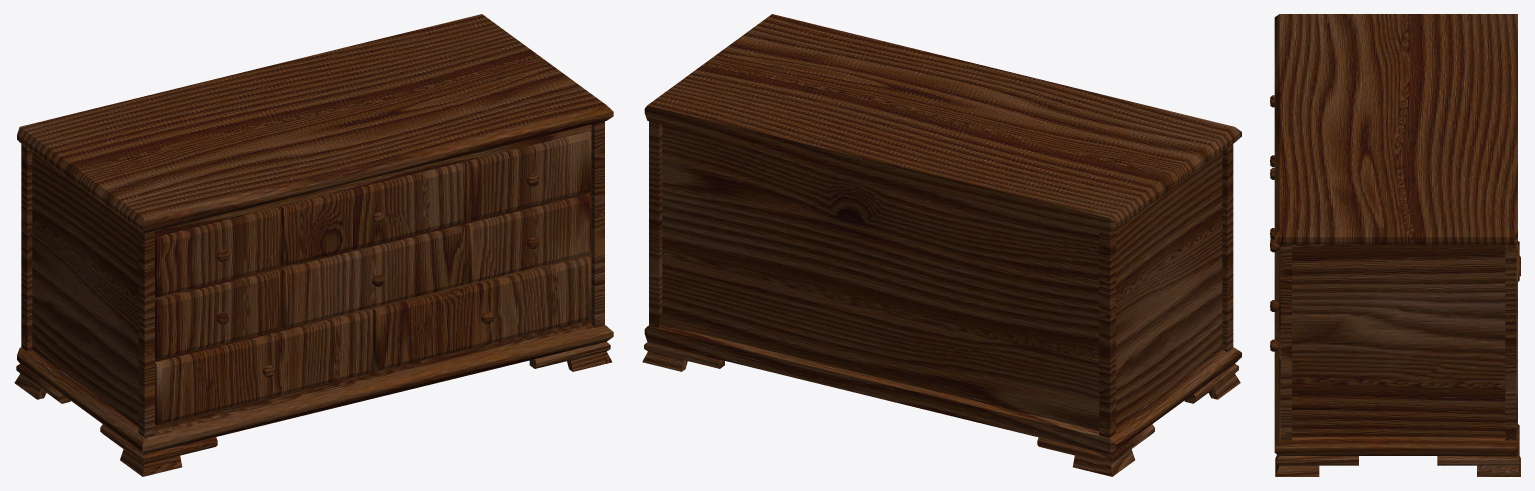
3 views of the same model, side by side, from view 1: azimuth 30°, elevation 25°; view 2: azimuth 150°, elevation 25°; view 3: azimuth 270°, elevation 25° (orthographic). The views are drawn at different scales.
Visible parts, largest first — view 1: Low b_low_n3d, a_low Low_n3d, Low c_low_n3d, Low e_low_n3d, Low d_low_n3d; view 2: Low b_low_n3d, Low c_low_n3d, Low e_low_n3d; view 3: Low b_low_n3d, Low c_low_n3d, Low e_low_n3d, Low d_low_n3d, a_low Low_n3d.
Boxes of the visible parts, bbox=[...] form: Low b_low_n3d: bbox=[17, 14, 613, 454]; a_low Low_n3d: bbox=[155, 131, 591, 424]; Low c_low_n3d: bbox=[21, 121, 604, 437]; Low e_low_n3d: bbox=[14, 341, 611, 476]; Low d_low_n3d: bbox=[216, 174, 539, 377]; Low b_low_n3d: bbox=[644, 14, 1241, 454]; Low c_low_n3d: bbox=[649, 121, 1233, 438]; Low e_low_n3d: bbox=[642, 342, 1240, 476]; Low b_low_n3d: bbox=[1274, 14, 1517, 455]; Low c_low_n3d: bbox=[1280, 244, 1516, 440]; Low e_low_n3d: bbox=[1275, 241, 1520, 476]; Low d_low_n3d: bbox=[1270, 95, 1279, 351]; a_low Low_n3d: bbox=[1279, 244, 1280, 421].
Bounding box in the file's own units: 1.83 × 0.9504 × 0.8805.
Materials: 1 (1 with a texture image).
